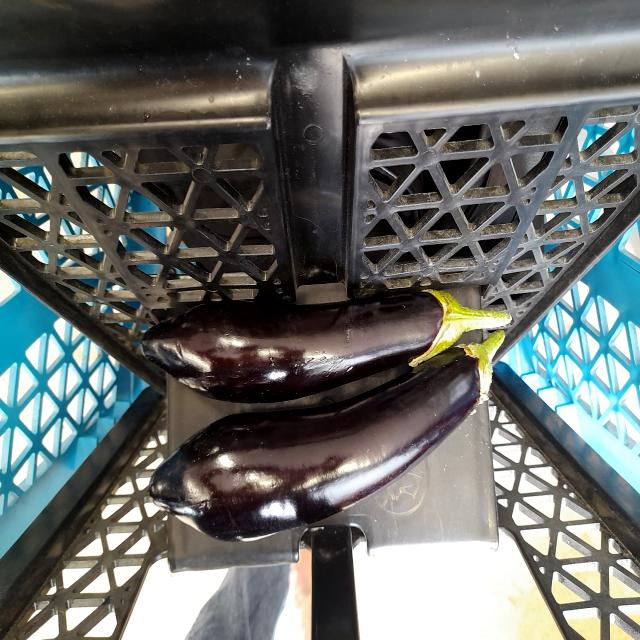eggplant: (147, 326, 517, 543), (136, 273, 503, 405)
